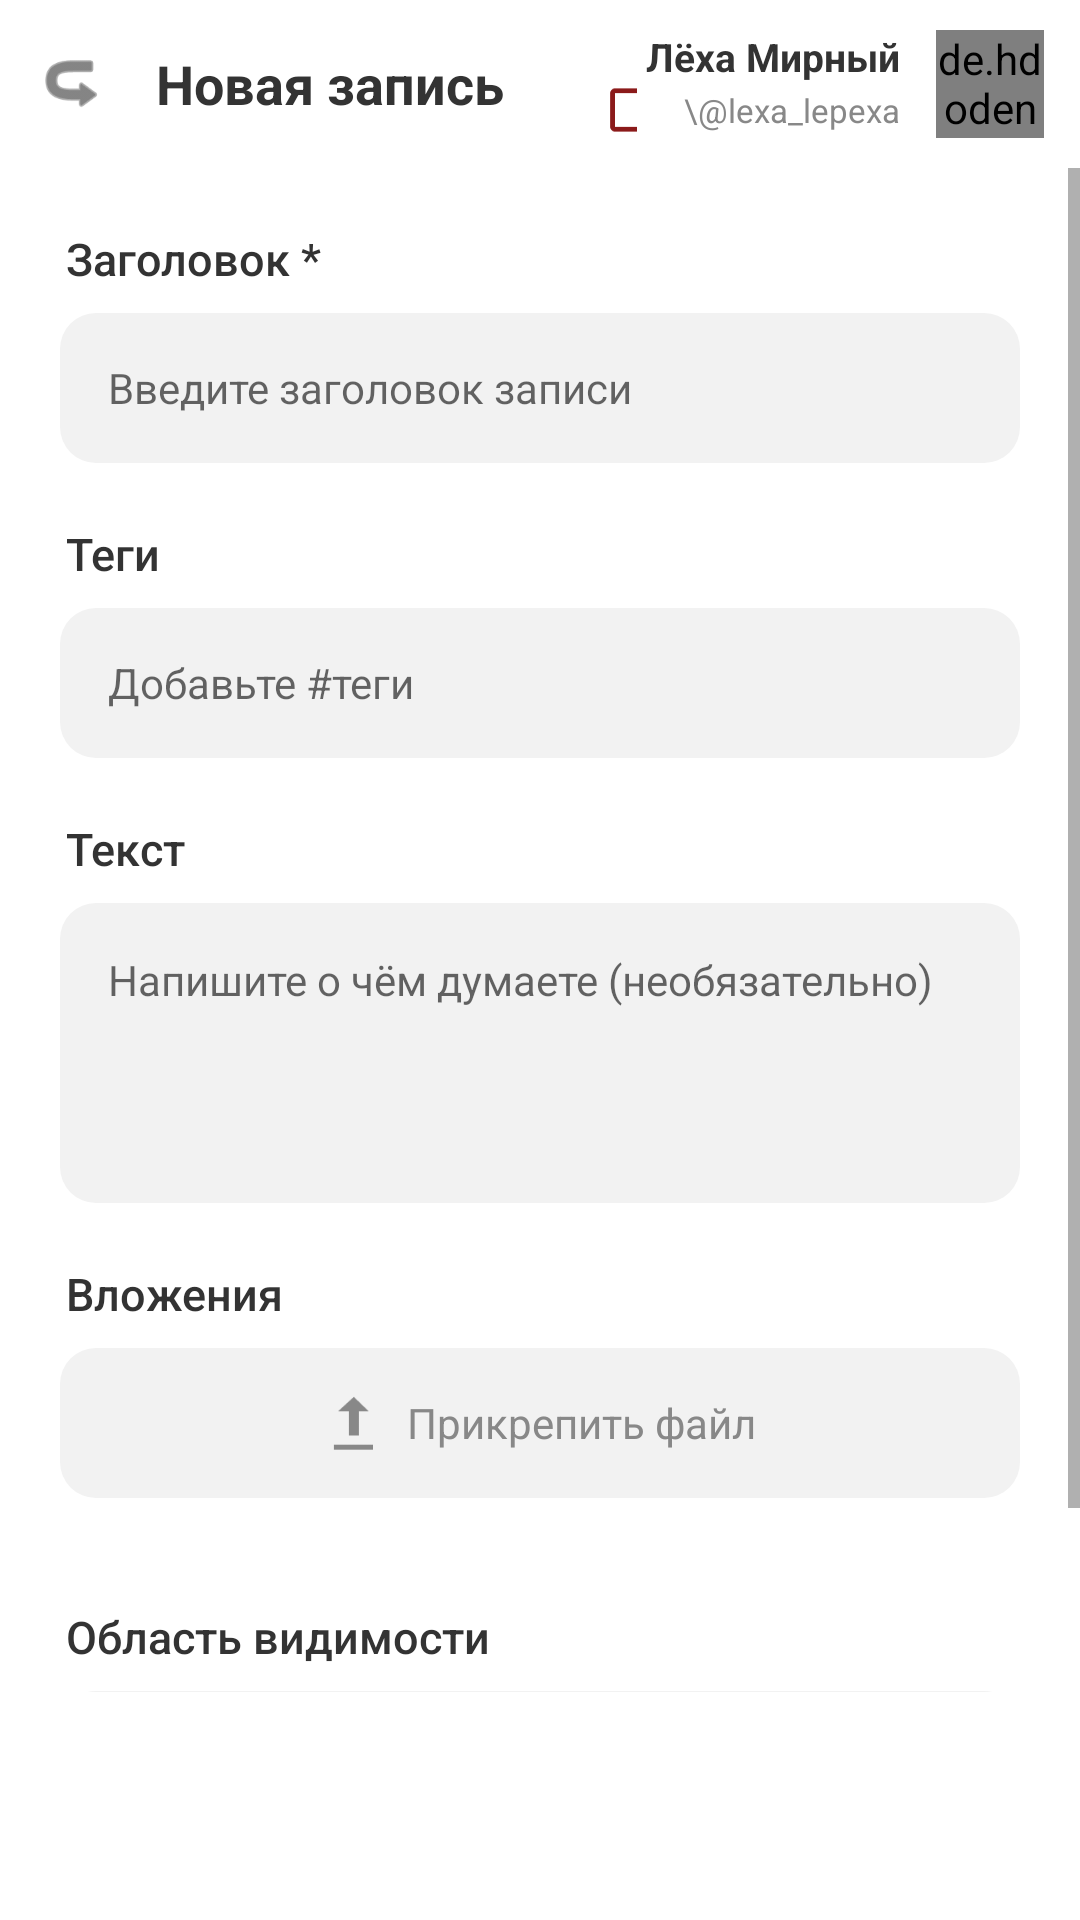

Screen size 1080w x 1920h. Icon name, then its center in pixels as (x=x, y=y):
upload: (x=353, y=1423)
